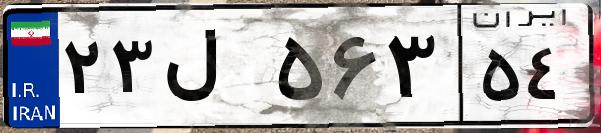2: (57, 26, 110, 100)
3: (385, 28, 445, 110), (110, 28, 158, 98)
4: (525, 38, 570, 115)
5: (270, 28, 330, 110), (475, 38, 525, 113)
6: (330, 28, 385, 110)
ل: (158, 20, 270, 120)
